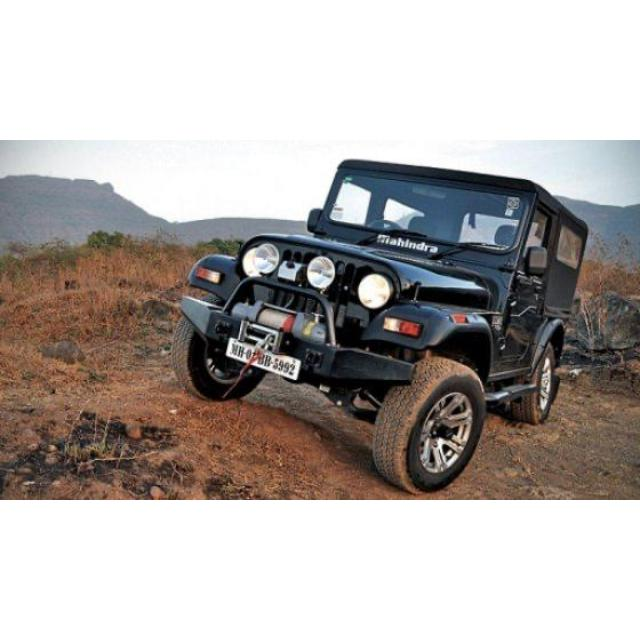car: (168, 154, 590, 498)
plate: (230, 332, 306, 383)
